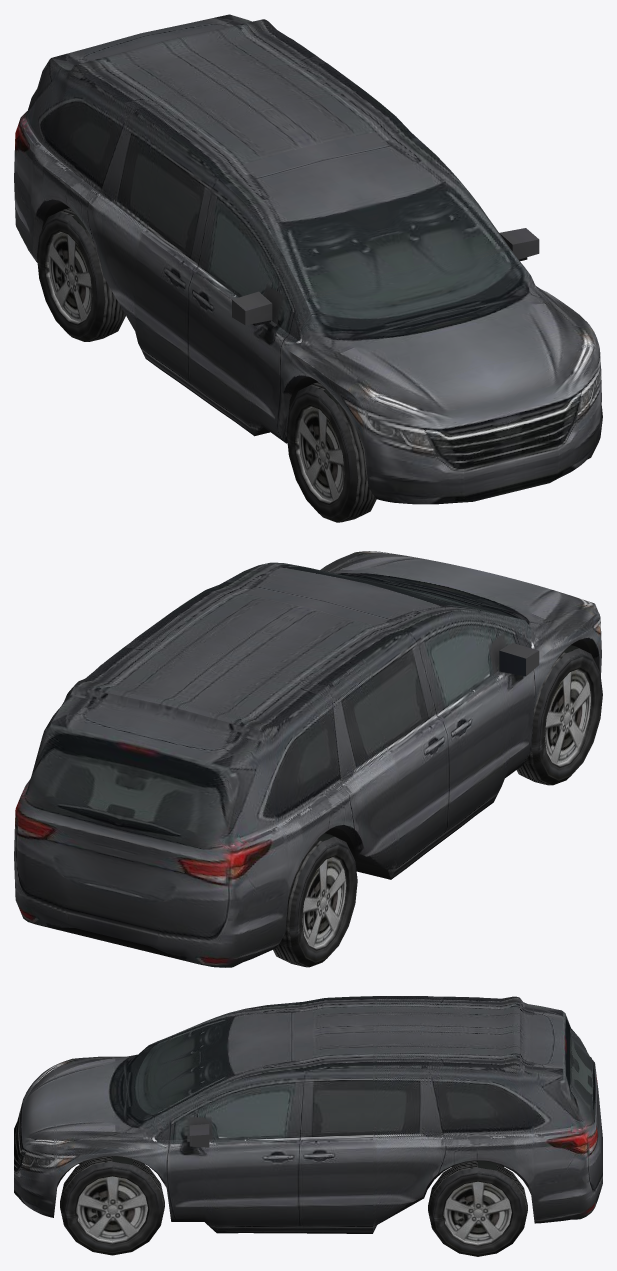
The model's file is minivan.glb.
3 views of the same model, one above another, from view 1: azimuth 30°, elevation 25°; view 2: azimuth 150°, elevation 25°; view 3: azimuth 270°, elevation 25° (orthographic). The views are drawn at different scales.
Parts seen in each view (by area): view 1: body, wheel-front-right, wheel-back-right; view 2: body, wheel-front-right, wheel-back-right; view 3: body, wheel-front-left, wheel-back-left.
Part boxes in pixels (x1,y1,x2,y2): body: [14, 14, 601, 504]; wheel-front-right: [286, 382, 376, 522]; wheel-back-right: [37, 208, 125, 341]; body: [14, 551, 601, 967]; wheel-front-right: [516, 645, 602, 785]; wheel-back-right: [273, 833, 357, 967]; body: [14, 996, 602, 1233]; wheel-front-left: [60, 1156, 164, 1255]; wheel-back-left: [428, 1160, 527, 1256].
Bounding box in the file's own units: 2.2 × 1.78 × 5.17.
Materials: 1 (1 with a texture image).
